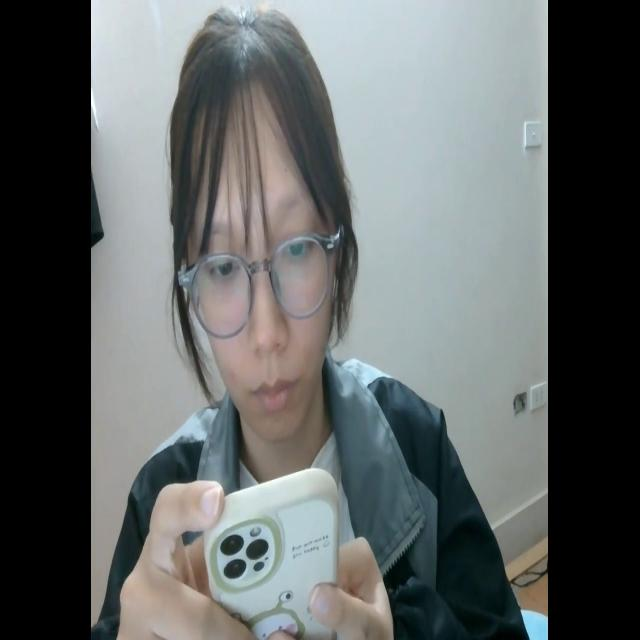phone: (201, 464, 335, 640)
student: (98, 14, 528, 640)
